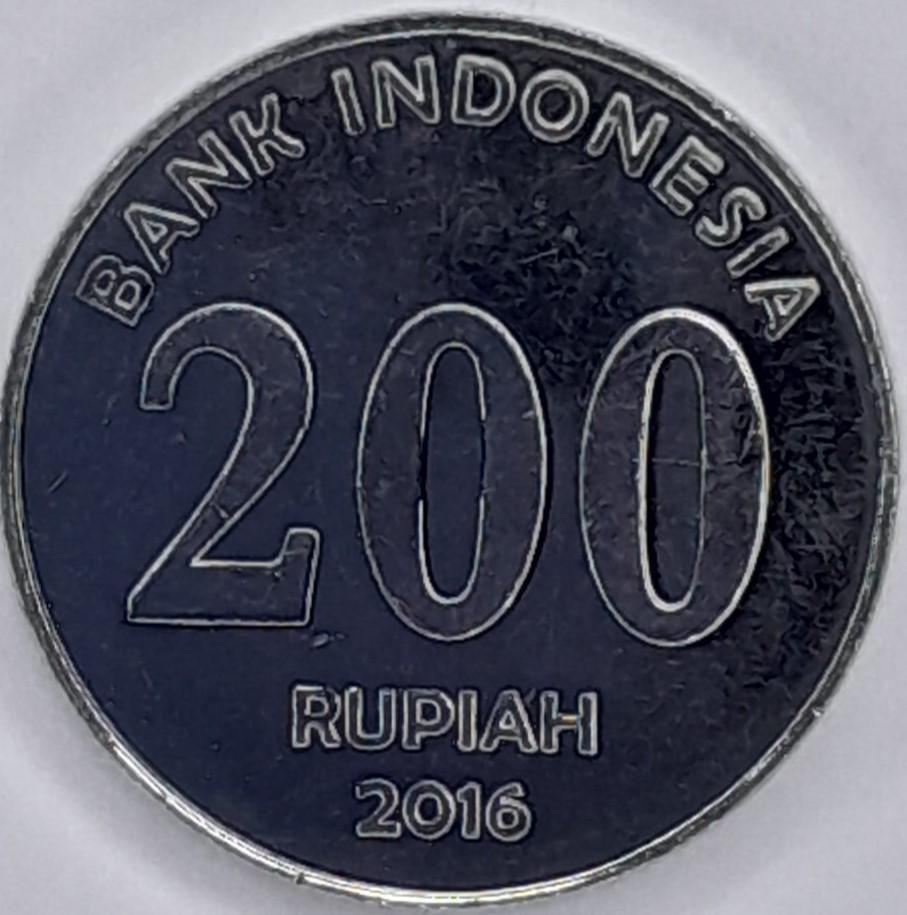coin_200_e2016: (0, 16, 907, 915)
